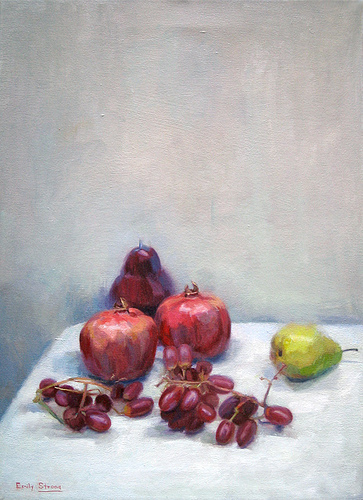pomogranate: (155, 280, 232, 362), (80, 299, 156, 382)
